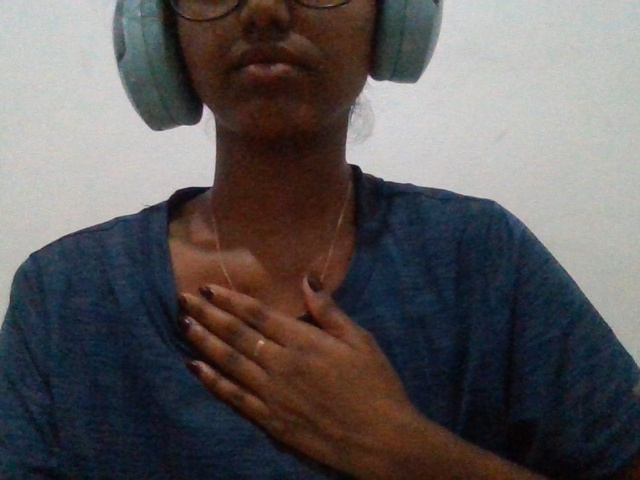Please: (146, 262, 429, 480)
